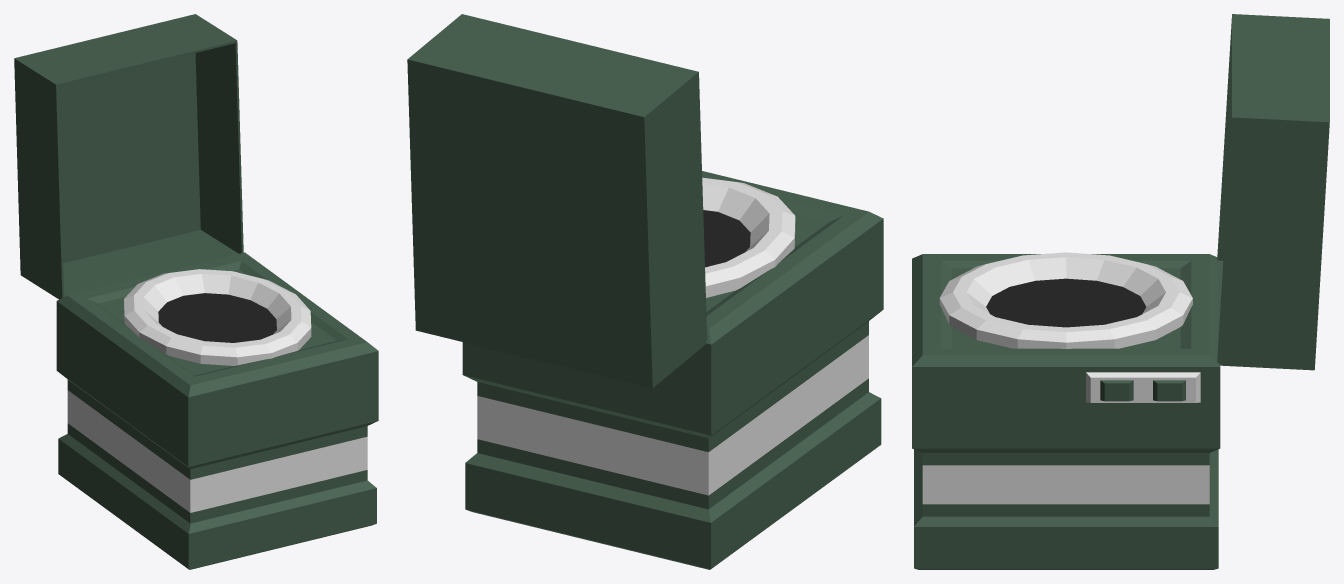
File: Биотуалет.dae
3 renders of one model, left to right at view 1: azimuth 30°, elevation 25°; view 2: azimuth 150°, elevation 25°; view 3: azimuth 270°, elevation 25°, orthographic. The views are drawn at different scales.
Visible parts, largest first — view 1: Cube, Cube.001, Cylinder; view 2: Cube.001, Cube, Cylinder; view 3: Cube, Cube.001, Cylinder.
Boxes of the visible parts, x1,y1,x2,y2 form: Cube: (56, 252, 378, 569); Cube.001: (14, 14, 243, 299); Cylinder: (124, 269, 311, 365); Cube.001: (407, 14, 707, 388); Cube: (462, 171, 883, 569); Cylinder: (702, 177, 795, 297); Cube: (912, 254, 1220, 569); Cube.001: (1217, 14, 1329, 370); Cylinder: (939, 252, 1192, 349).
Size of the model in its own units: 2.09 by 3.25 by 3.89.
